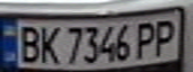3: (81, 24, 100, 64)
4: (100, 22, 118, 63)
6: (112, 20, 136, 62)
7: (60, 24, 84, 65)
B: (12, 22, 42, 63)
K: (36, 22, 63, 65)
P: (148, 16, 178, 57), (133, 18, 160, 60)
